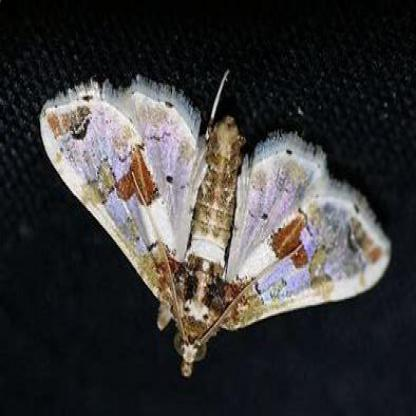leucinodes: (41, 78, 391, 379)
